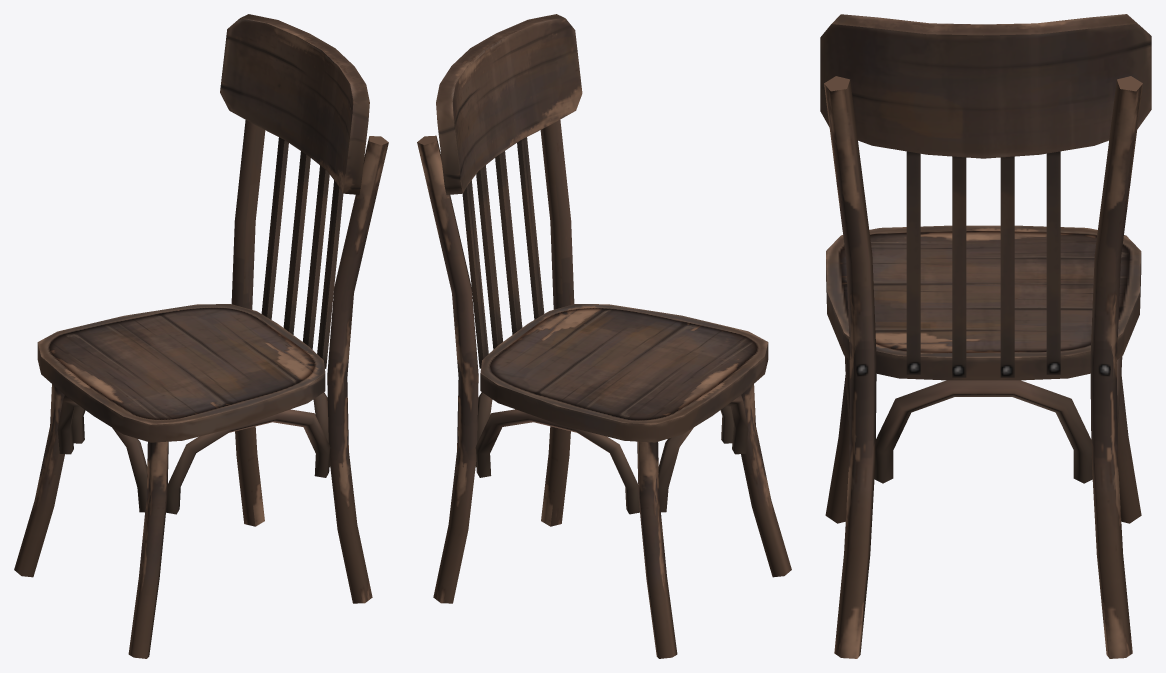
Rendered from chair12.FBX.
The picture shows the model from 3 angles, left to right: view 1: azimuth 30°, elevation 25°; view 2: azimuth 150°, elevation 25°; view 3: azimuth 270°, elevation 25°; orthographic projection. The views are drawn at different scales.
Visible parts, largest first — view 1: chair12; view 2: chair12; view 3: chair12.
Part boxes in pixels (x1=…): chair12: x1=14, y1=14, x2=388, y2=658; chair12: x1=417, y1=14, x2=791, y2=658; chair12: x1=820, y1=14, x2=1151, y2=658.
Bounding box in the file's own units: 54.64 × 101 × 47.55.
